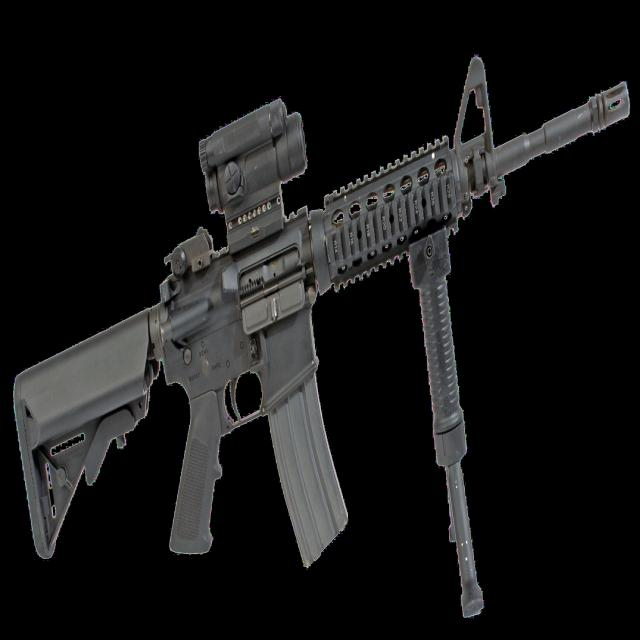Rifle: (12, 57, 633, 571)
